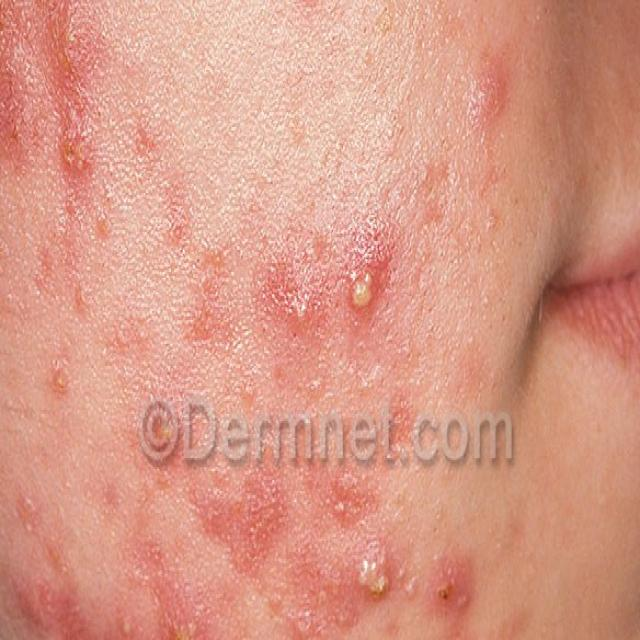Acne: (139, 474, 563, 640), (179, 188, 429, 391), (0, 434, 119, 640), (457, 44, 541, 159)
